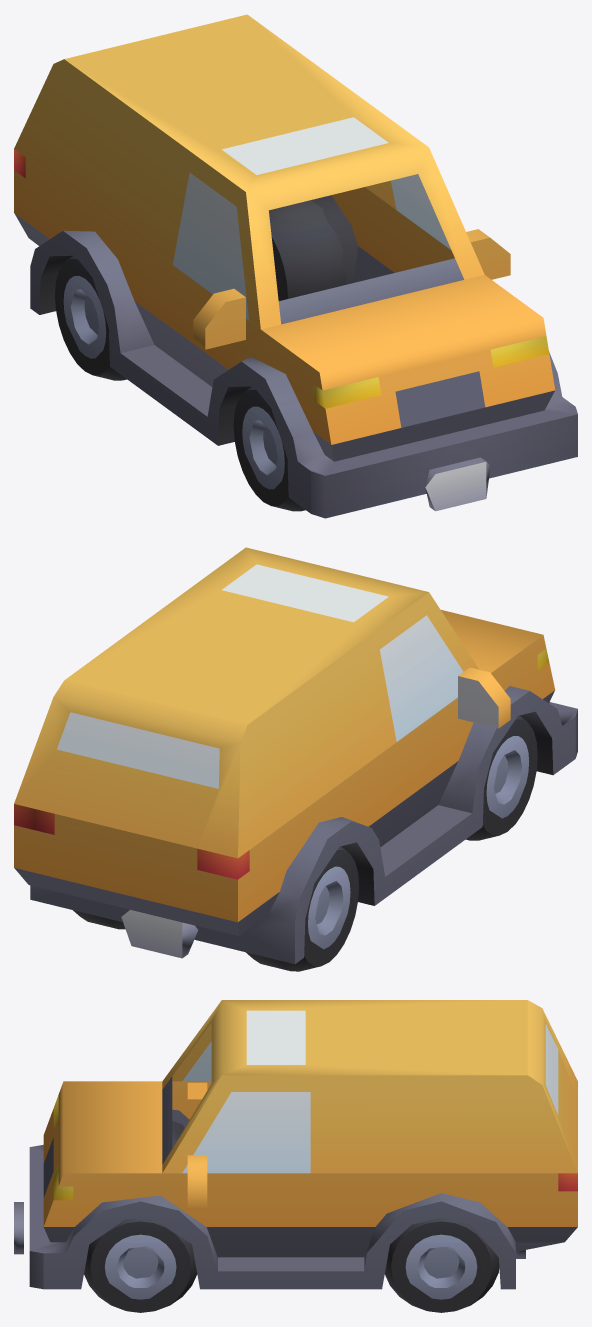
The model's file is 037_car-kit_suv-luxury_card.glb.
3 views of the same model, one above another, from view 1: azimuth 30°, elevation 25°; view 2: azimuth 150°, elevation 25°; view 3: azimuth 270°, elevation 25° (orthographic). The views are drawn at different scales.
Parts seen in each view (by area): view 1: body, wheel-back-left, wheel-back-right, wheel-front-right; view 2: body, wheel-back-right, wheel-front-right; view 3: body, wheel-back-left, wheel-front-left.
Boxes of the visible parts, x1=… form: body: x1=14, y1=14, x2=577, y2=518; wheel-back-left: x1=269, y1=200, x2=345, y2=300; wheel-back-right: x1=55, y1=255, x2=126, y2=380; wheel-front-right: x1=233, y1=386, x2=305, y2=511; body: x1=14, y1=547, x2=577, y2=964; wheel-back-right: x1=246, y1=846, x2=359, y2=971; wheel-front-right: x1=466, y1=715, x2=537, y2=840; body: x1=14, y1=1000, x2=577, y2=1289; wheel-back-left: x1=385, y1=1217, x2=499, y2=1312; wheel-front-left: x1=84, y1=1219, x2=197, y2=1312.
Bounding box in the file's own units: 1.5 × 1.3 × 2.85.
Materials: 1 (1 with a texture image).
